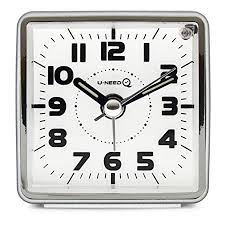alarm_clock: (12, 8, 213, 207)
